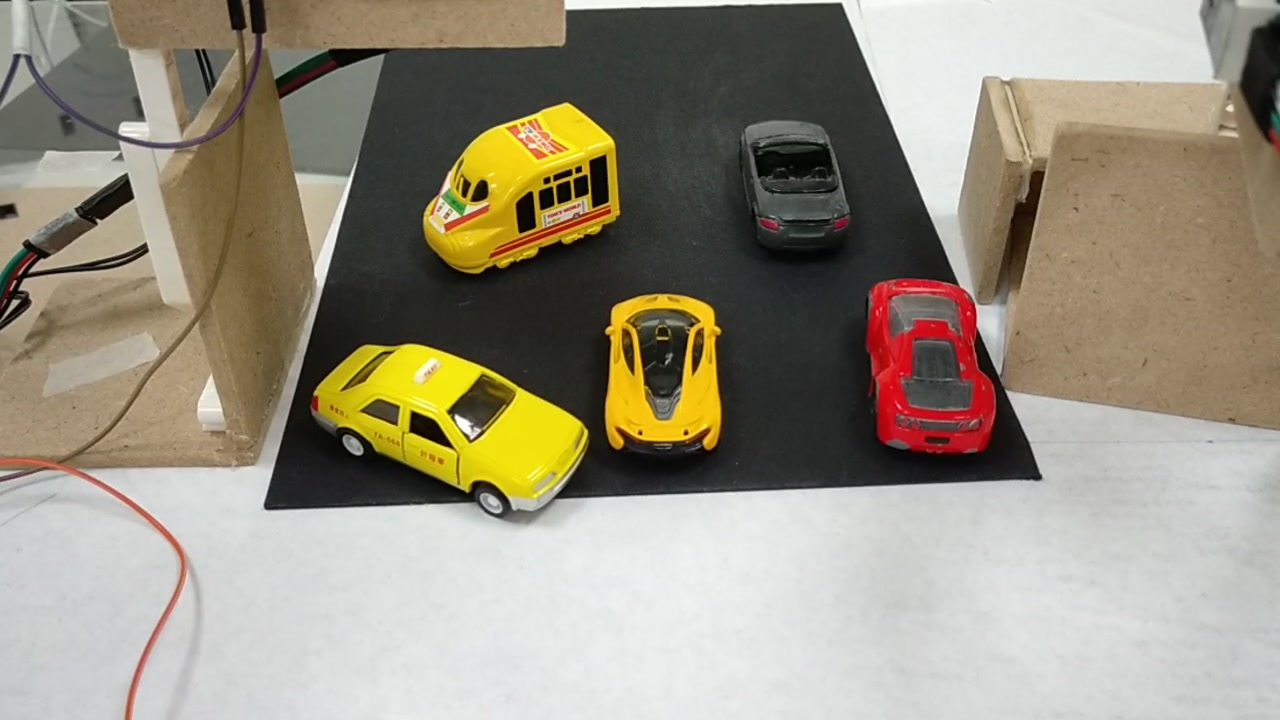car: (309, 341, 591, 536), (862, 276, 996, 464), (612, 300, 722, 454), (729, 119, 852, 254)
